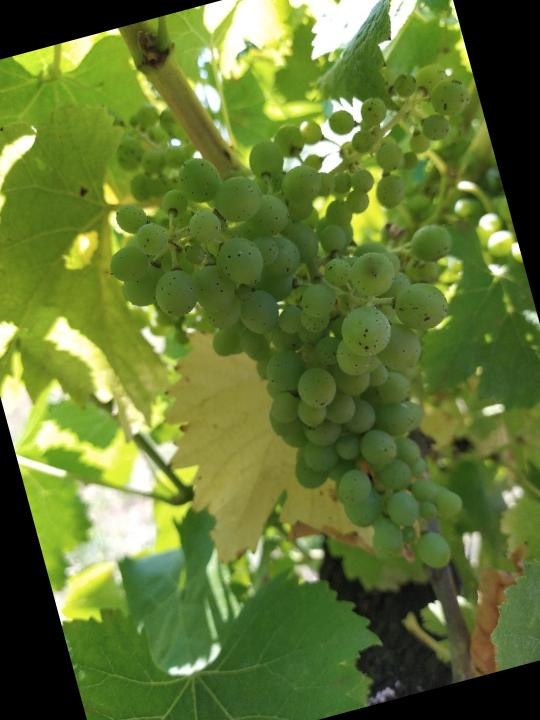grape: (77, 53, 540, 636)
